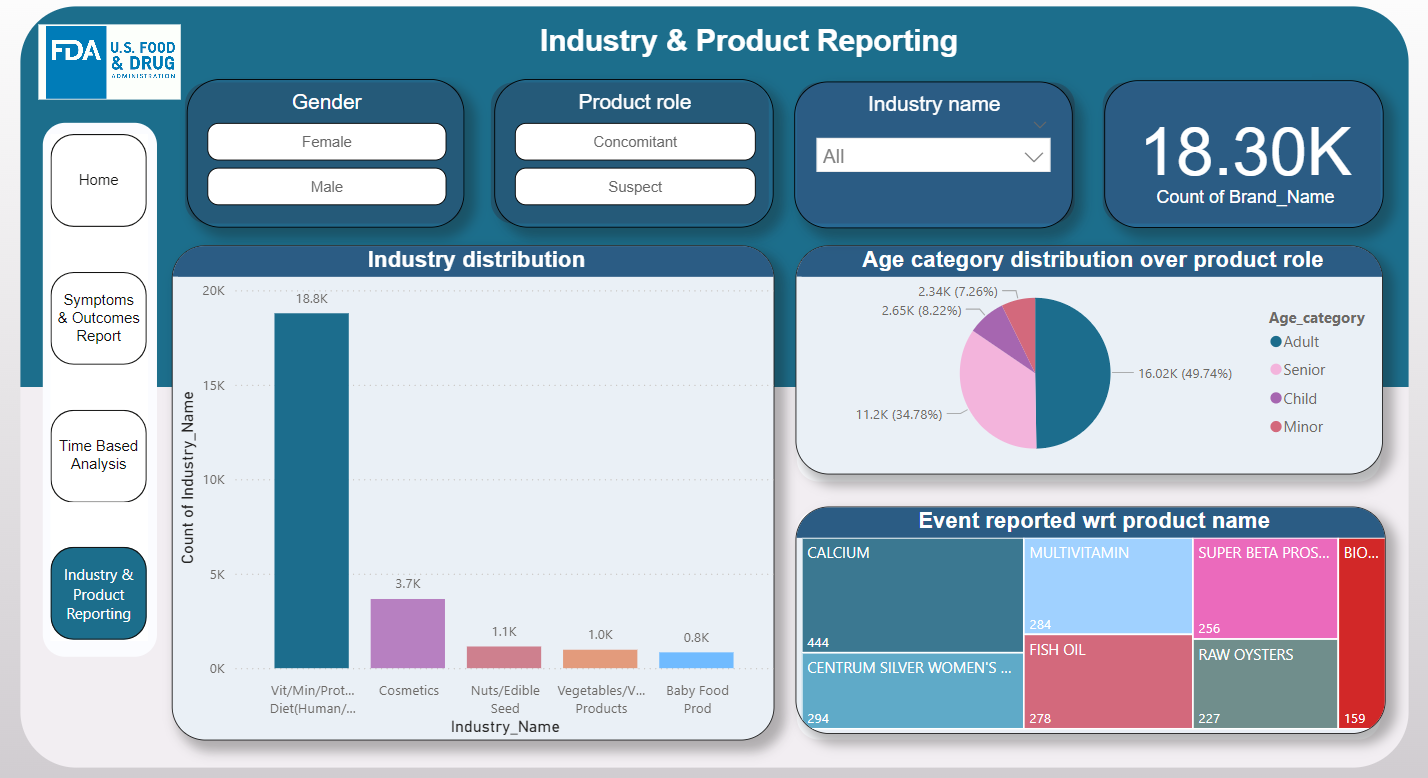

Layout of this report page (visuals, bound fields, positions):
{"tool":"powerbi","page":{"name":"Industry & Product Reporting","canvas":[1280,720],"ordinal":3},"visuals":[{"type":"treemap","title":"Event reported wrt product name","fields":{"Values":["CountNonNull(Main_table.Event_ID)"],"Group":["Main_table.Brand_Name"]},"box":[712.2,466.6,527,203],"z":0},{"type":"pieChart","title":"Age category distribution over product role","fields":{"Category":["Main_table.Age_category"],"Y":["CountNonNull(Main_table.Product_Role)"]},"box":[712.2,233.3,525,205],"z":1000},{"type":"ChicletSlicer1448559807354","title":"Gender","fields":{"Category":["Main_table.Gender"]},"box":[168.8,85.1,248.4,133.1],"z":2000},{"type":"card","fields":{"Values":["Count(Main_table.Product_Name)"]},"box":[988,86.4,249.7,131.7],"z":3000},{"type":"image","box":[31.6,31.6,137.2,76.8],"z":4000},{"type":"textbox","box":[168.8,31.6,1004.5,52.1],"z":5000},{"type":"ChicletSlicer1448559807354","title":"Product role","fields":{"Category":["Main_table.Product_Role"]},"box":[443.2,85.1,249.7,133.1],"z":6000},{"type":"slicer","title":"Industry name","fields":{"Values":["Main_table.Industry_Name"]},"box":[711.8,86.9,248.5,131.5],"z":7000},{"type":"columnChart","title":"Industry distribution","fields":{"Category":["Main_table.Industry_Name"],"Y":["CountNonNull(Main_table.Industry_Name)"]},"box":[155,233,538,442],"z":8000},{"type":"pageNavigator","box":[47.1,133.9,86.9,452.4],"z":9000}]}

Visuals, with their boxes on the page's 1280x720 design canvas (x1, y1, x2, y2). These are canvas units, not pixel positions in the 1428x778 screenshot, which may show the page scaled, cropped or inside an application window:
"Event reported wrt product name" treemap: <region>712, 467, 1239, 670</region>
"Age category distribution over product role" pieChart: <region>712, 233, 1237, 438</region>
"Gender" ChicletSlicer1448559807354: <region>169, 85, 417, 218</region>
card - Count(Main_table.Product_Name): <region>988, 86, 1238, 218</region>
image: <region>32, 32, 169, 108</region>
textbox: <region>169, 32, 1173, 84</region>
"Product role" ChicletSlicer1448559807354: <region>443, 85, 693, 218</region>
"Industry name" slicer: <region>712, 87, 960, 218</region>
"Industry distribution" columnChart: <region>155, 233, 693, 675</region>
pageNavigator: <region>47, 134, 134, 586</region>
